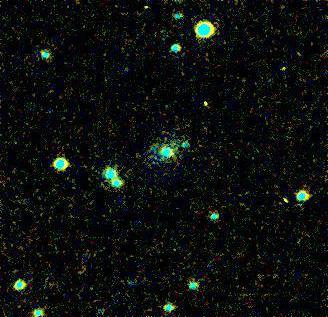star: (269, 55, 299, 85)
